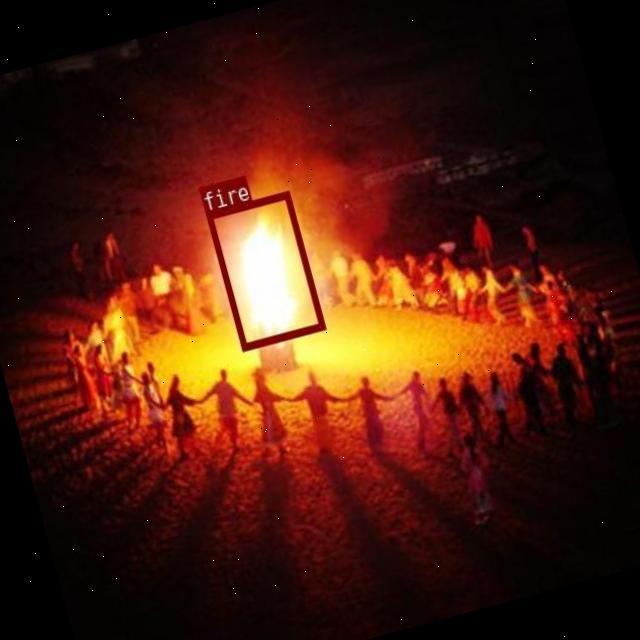fire: (205, 190, 324, 350)
